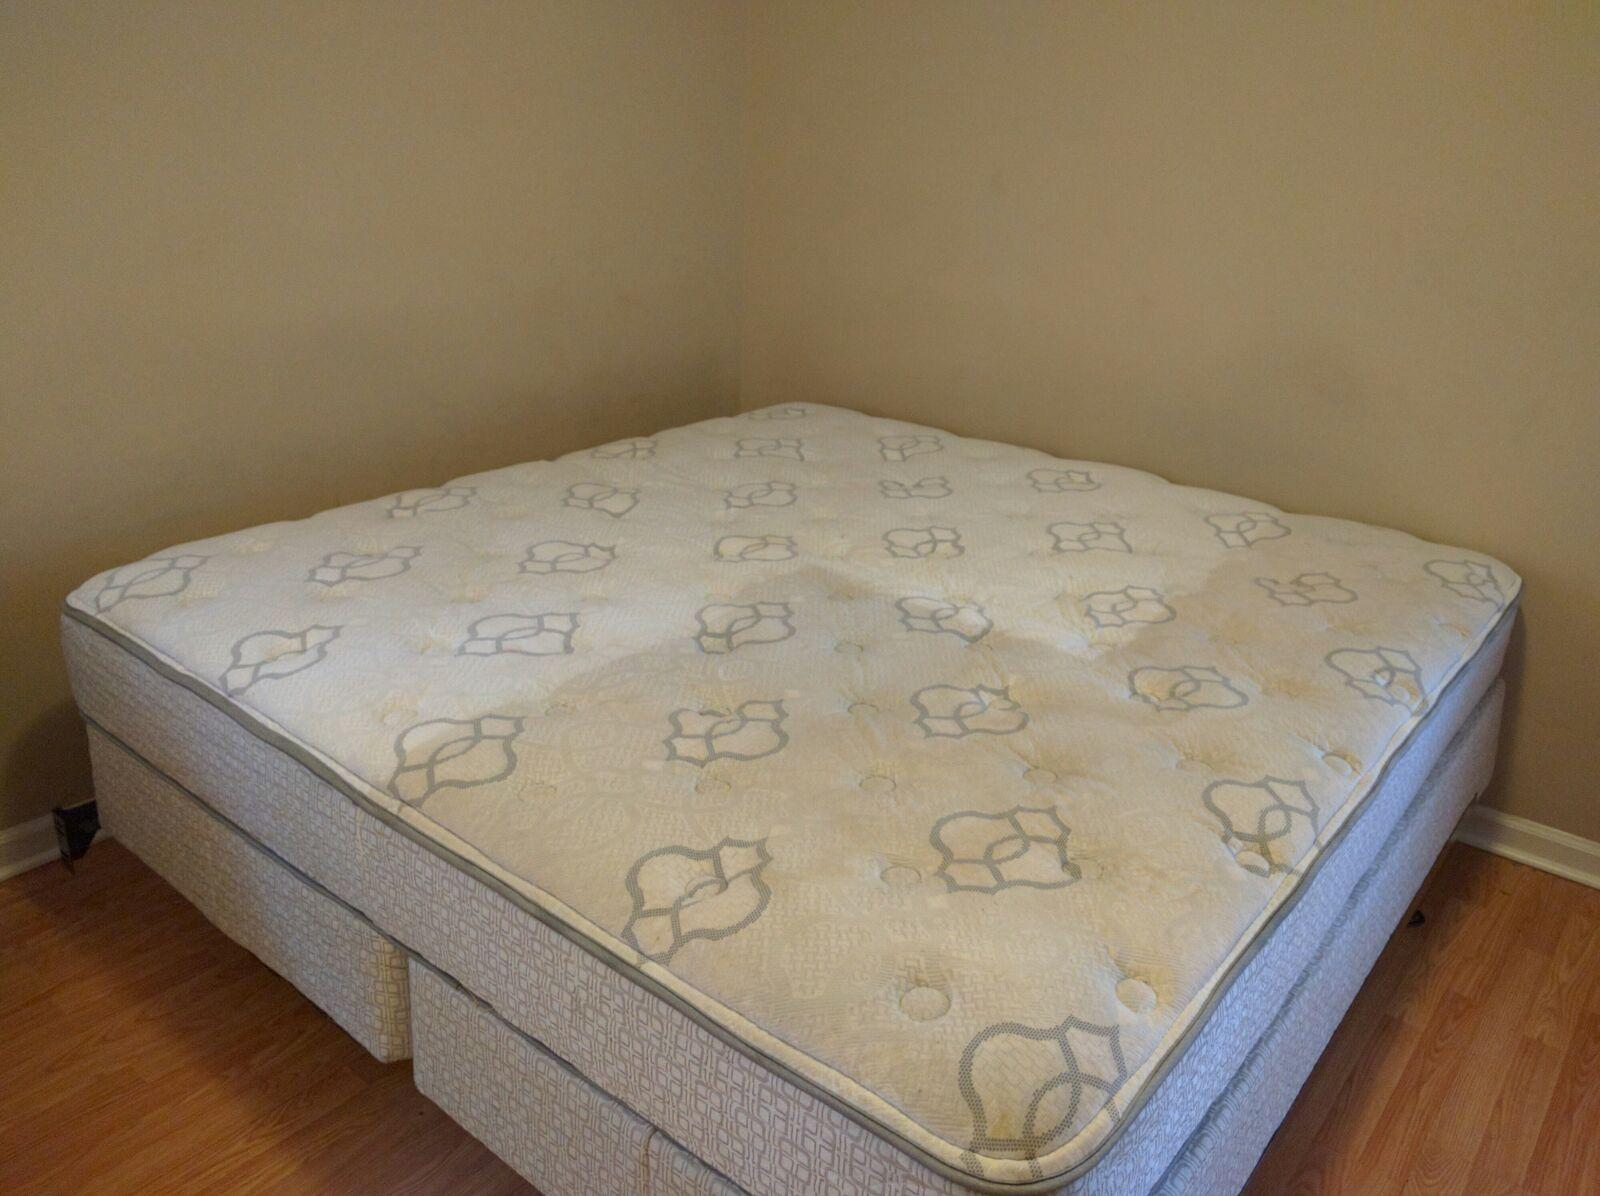Bed-Mattress: (26, 371, 1551, 1188)
